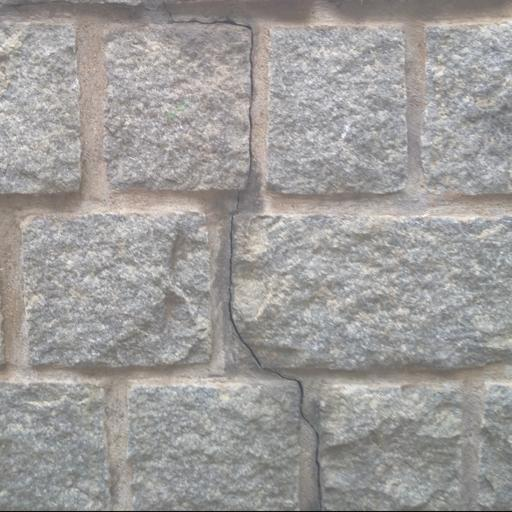major_crack: (154, 0, 338, 512)
